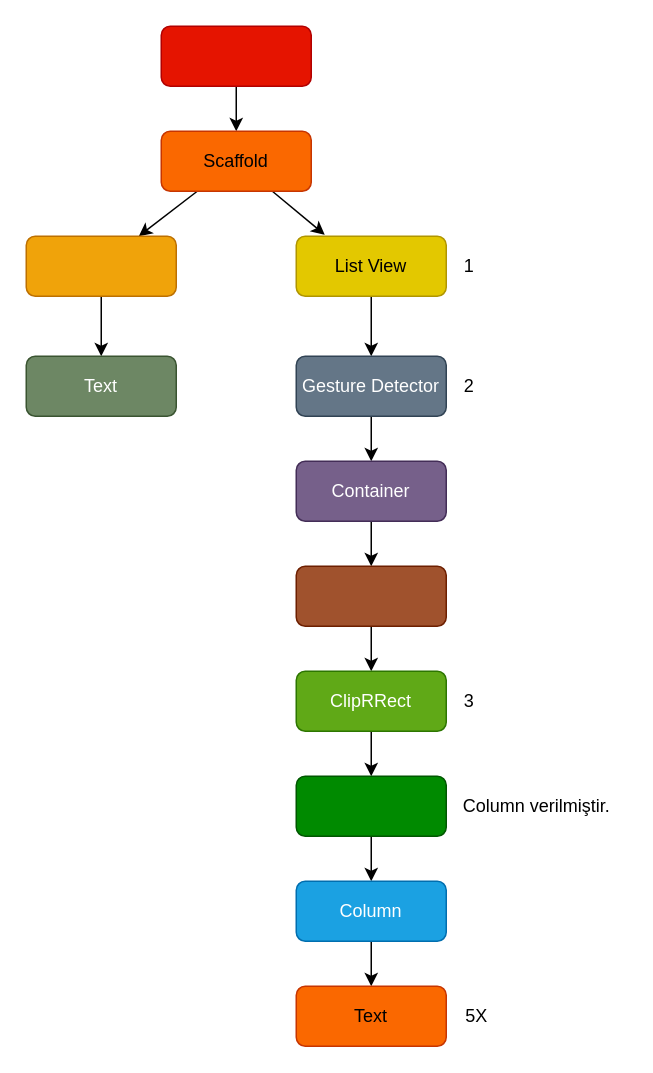
The diagram is 653 pixels wide and 1073 high, and some of its shapes have lost their labels. The shapes that lost their labels are listed below. From the top down, each one's centre as x and y in pixels, then its label:
(x=235, y=55): Shop Page
(x=100, y=265): App Bar
(x=370, y=595): Row
(x=370, y=805): Padding
